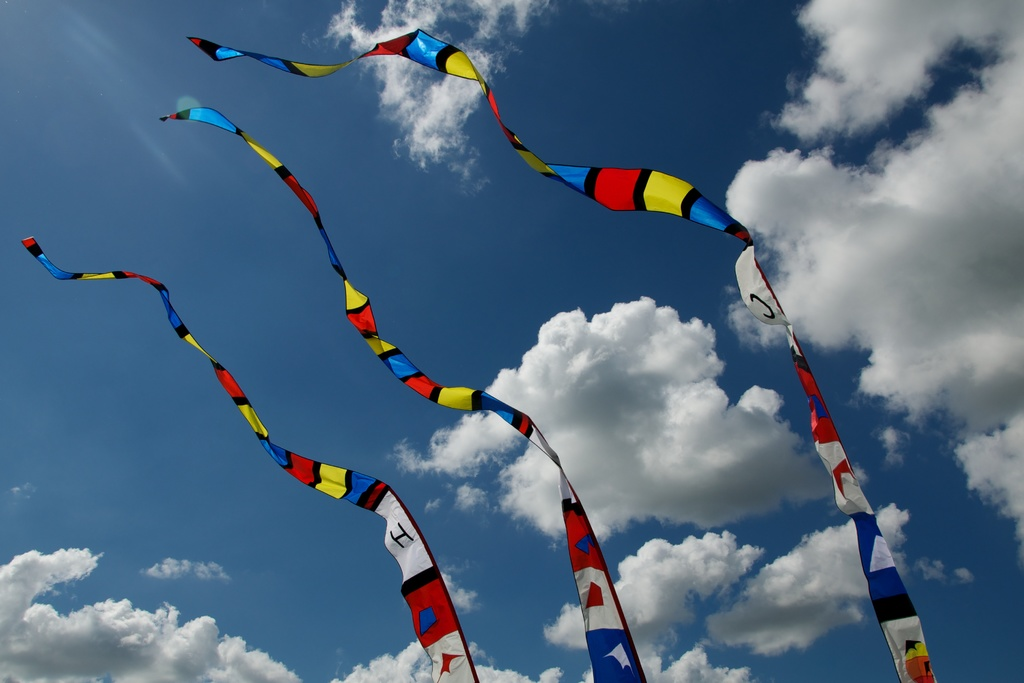kite: (16, 17, 958, 683)
